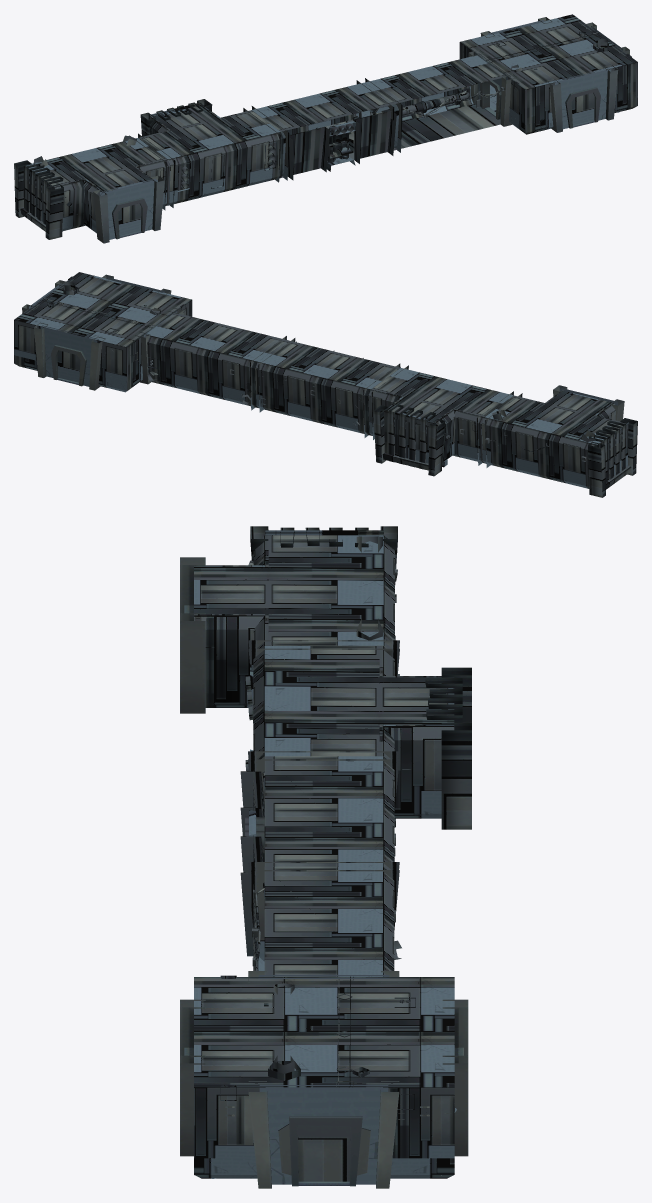
The model's file is Combined_Mesh_root_scene__7_93922163__zombies2_diffuse_03_64bb9bc2_c1f257.obj.
3 views of the same model, one above another, from view 1: azimuth 30°, elevation 25°; view 2: azimuth 150°, elevation 25°; view 3: azimuth 270°, elevation 25° (orthographic). The views are drawn at different scales.
Size of the model in its own units: 102 by 9.84 by 22.39.
85 materials, 85 textured.
